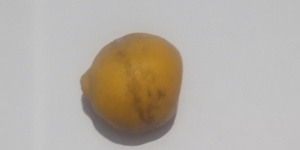BAD: (77, 31, 185, 134)
